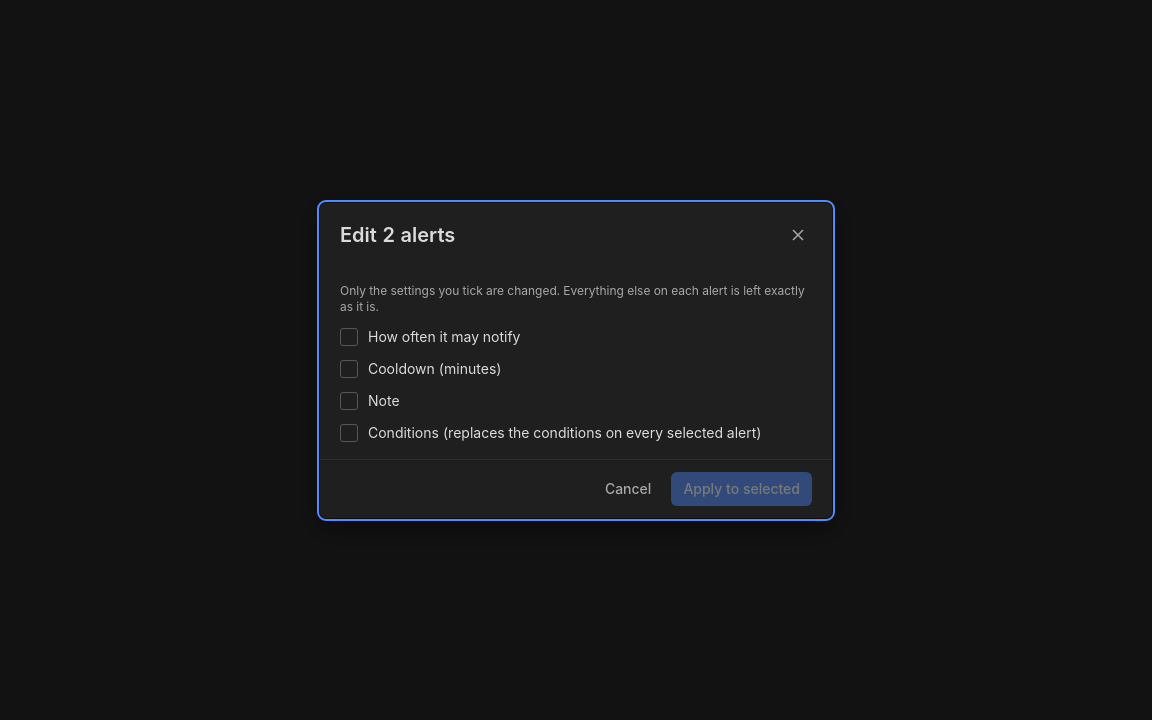
it: the dialog says the conditions replace rather than merge
This screenshot has width=1152, height=720.
Click the checkbox labelled "Conditions (replaces the conditions on every selected alert)" at (349,432), box [340,424,358,442]
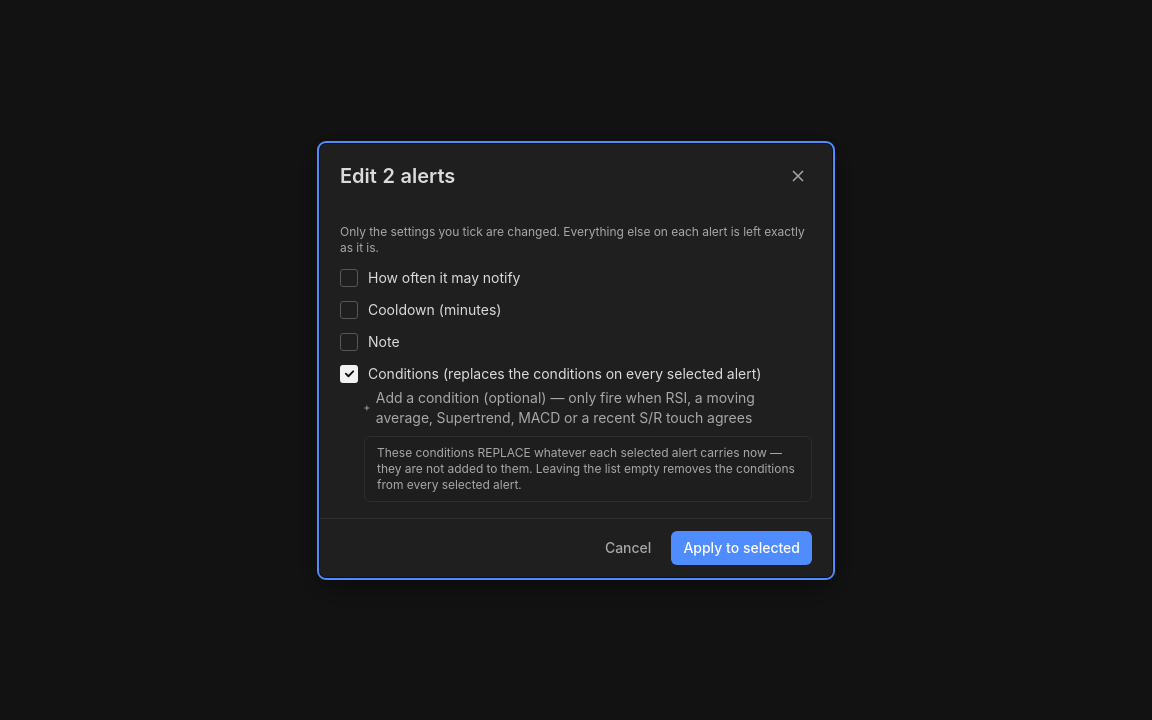
Now the text "REPLACE whatever each selected alert carries" is shown, box [377,444,795,492]
